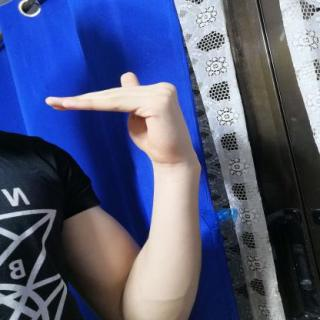KHAA: (36, 63, 208, 171)
